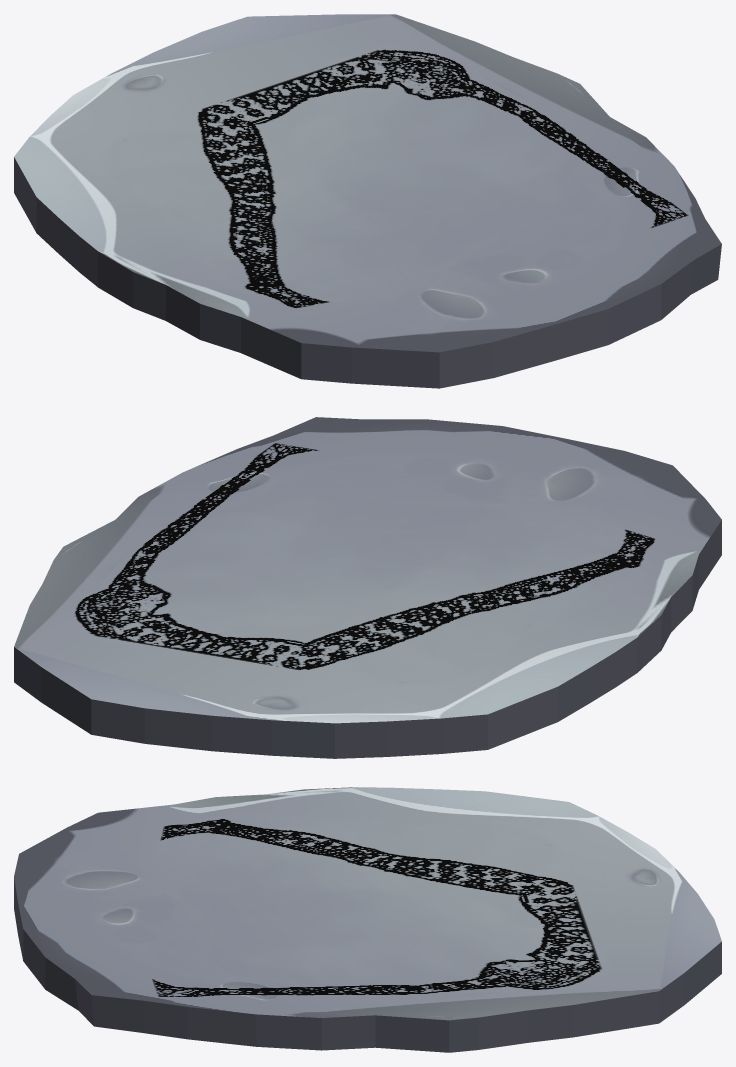
File: runeNut.glb
3 renders of one model, top to bottom at view 1: azimuth 30°, elevation 25°; view 2: azimuth 150°, elevation 25°; view 3: azimuth 270°, elevation 25°, orthographic. The views are drawn at different scales.
Parts seen in each view (by area): view 1: rune; view 2: rune; view 3: rune.
Part boxes in pixels (x1,y1,x2,y2): rune: [14, 14, 721, 388]; rune: [14, 417, 721, 758]; rune: [14, 787, 721, 1052].
Size of the model in its own units: 0.7844 by 0.0509 by 1.01.
1 material, 1 textured.
